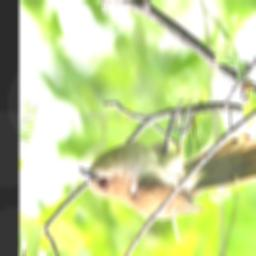Cuckoo: (78, 100, 256, 220)
